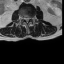CCS_normal: (26, 16, 28, 24)
LFS_severe_stenosis: (30, 16, 32, 21)
LLS_normal: (28, 16, 30, 21)
RFS_stenosis: (22, 16, 24, 21)
RLS_normal: (24, 16, 26, 22)
